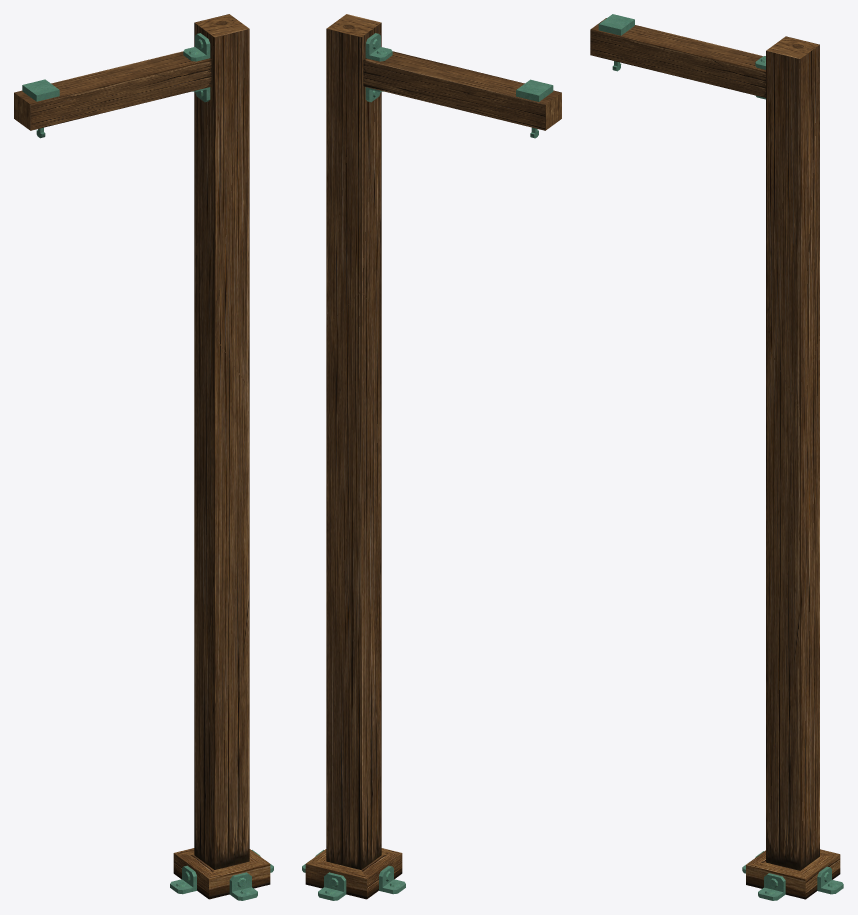
Rendered from Rooftop_Pole_Light_Drop.fbx.
3 renders of one model, left to right at view 1: azimuth 30°, elevation 25°; view 2: azimuth 150°, elevation 25°; view 3: azimuth 330°, elevation 25°, orthographic. The views are drawn at different scales.
Parts seen in each view (by area): view 1: Rooftop_Pole_Light_Drop.000, Rooftop_Pole_Light_Drop.002, Rooftop_Pole_Light_Drop.001; view 2: Rooftop_Pole_Light_Drop.000, Rooftop_Pole_Light_Drop.002, Rooftop_Pole_Light_Drop.001; view 3: Rooftop_Pole_Light_Drop.000, Rooftop_Pole_Light_Drop.002, Rooftop_Pole_Light_Drop.001.
Part boxes in pixels (x1,y1,x2,y2): Rooftop_Pole_Light_Drop.000: (170,277,273,900); Rooftop_Pole_Light_Drop.002: (194,14,249,388); Rooftop_Pole_Light_Drop.001: (14,33,212,138); Rooftop_Pole_Light_Drop.000: (302,291,405,900); Rooftop_Pole_Light_Drop.002: (326,14,381,326); Rooftop_Pole_Light_Drop.001: (363,33,561,138); Rooftop_Pole_Light_Drop.000: (742,336,843,900); Rooftop_Pole_Light_Drop.002: (766,36,819,410); Rooftop_Pole_Light_Drop.001: (590,14,765,99).
Size of the model in its own units: 73.99 by 244 by 28.62.
